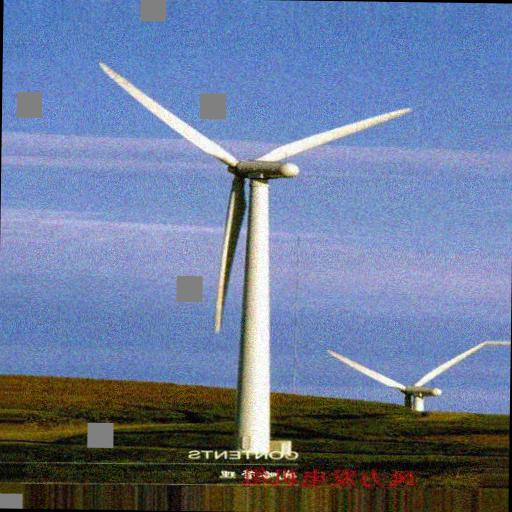wind turbine: (97, 58, 409, 428)
